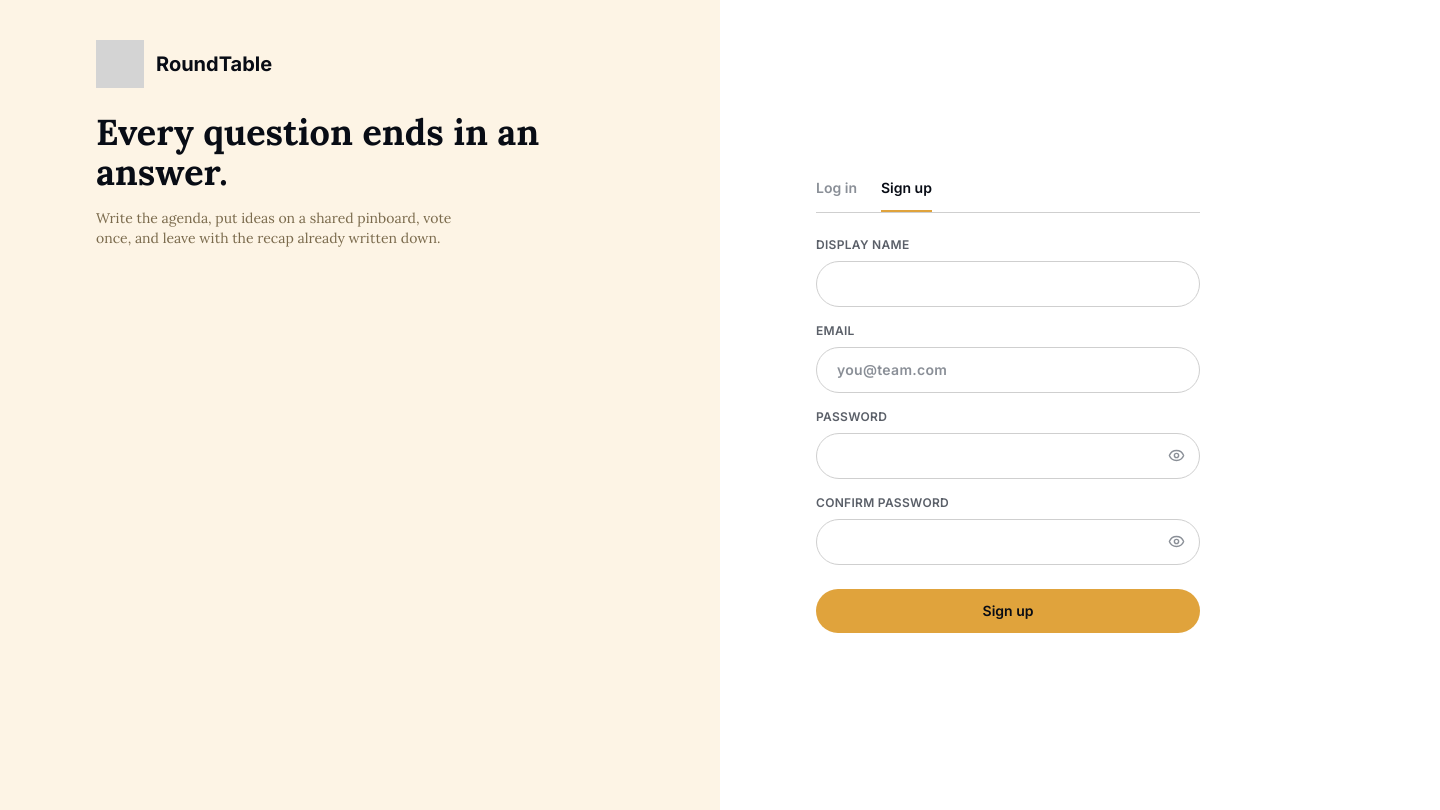
Scenario: SignupPage › shows a validation error without hitting the network for an invalid email
This screenshot has width=1440, height=810.
Type "Alice" into the field labelled "Display name". click: (1008, 284)
box: [816, 260, 1200, 306]
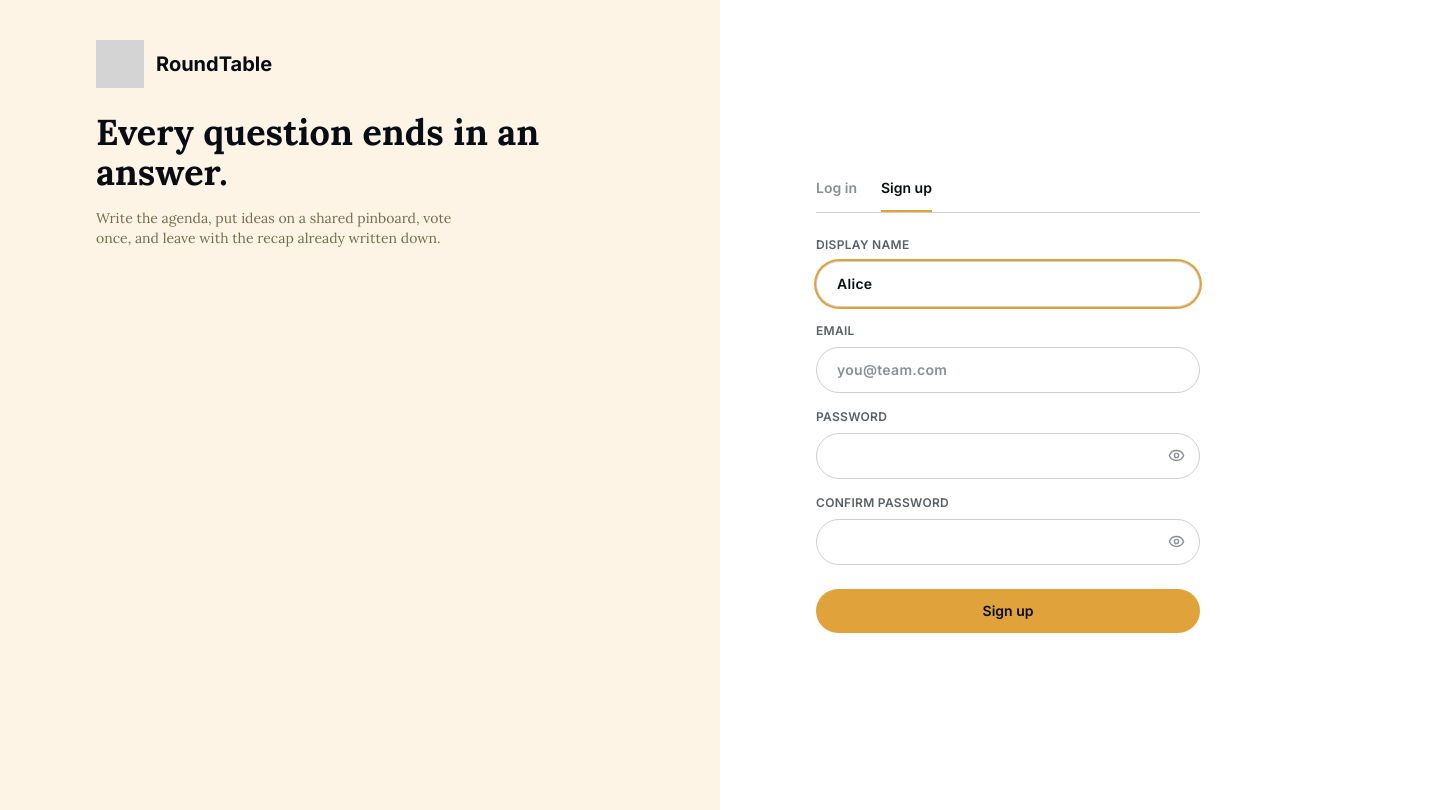
Type "not-an-email" into the field labelled "Email". click: (1008, 370)
box: [816, 346, 1200, 392]
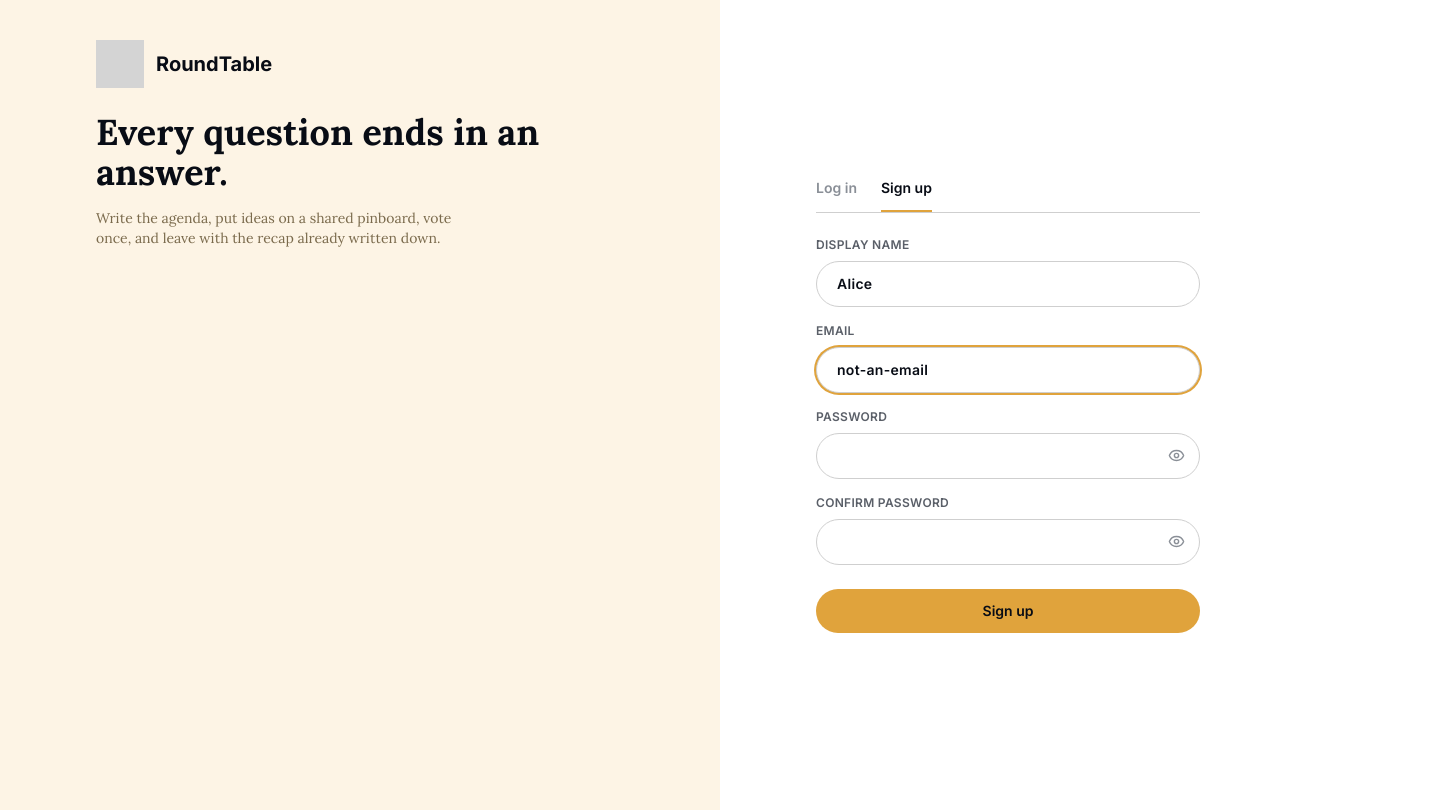
Type "longenough" into the password field labelled "Password". click: (1008, 456)
box: [816, 432, 1200, 478]
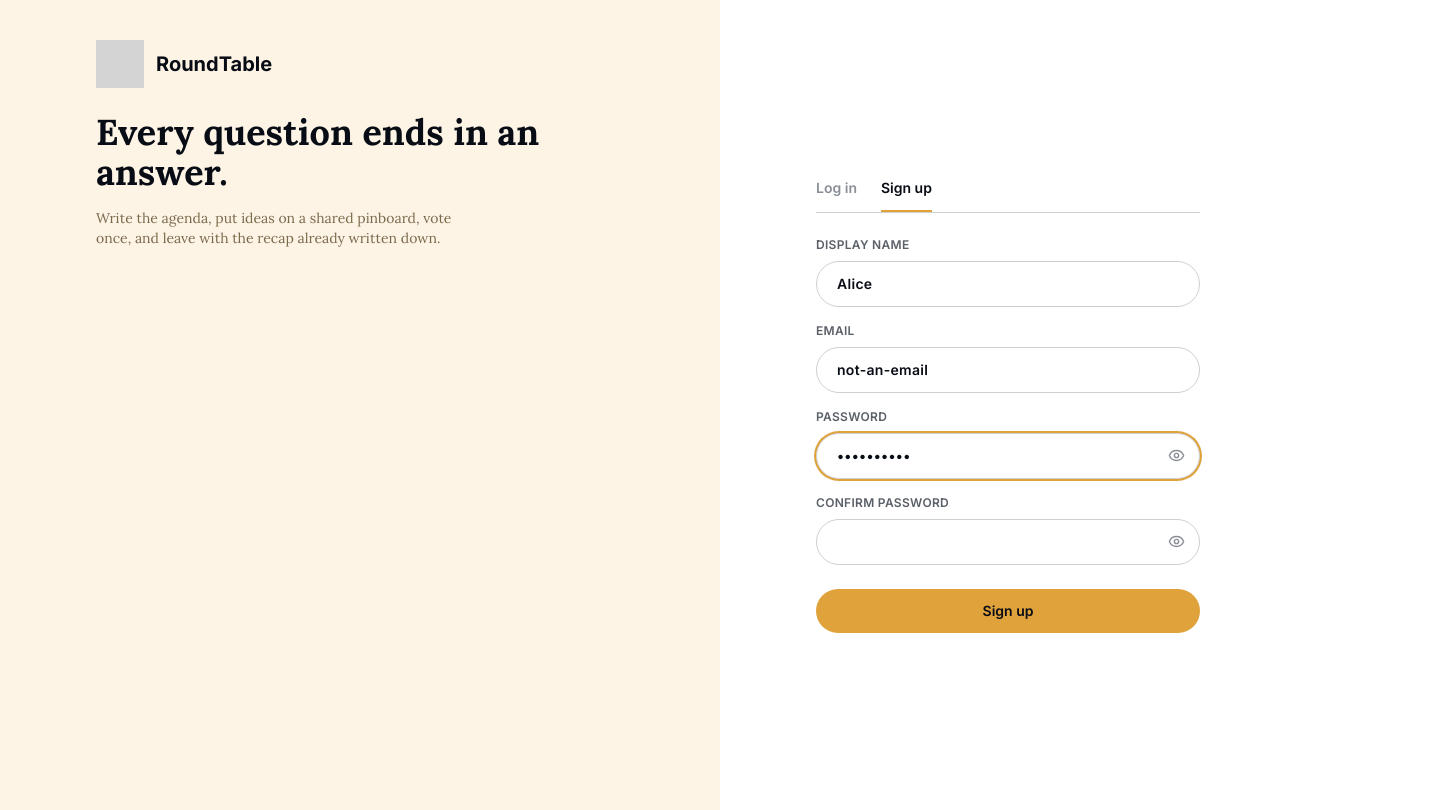
Type "longenough" into the password field labelled "Confirm password". click: (1008, 542)
box: [816, 518, 1200, 564]
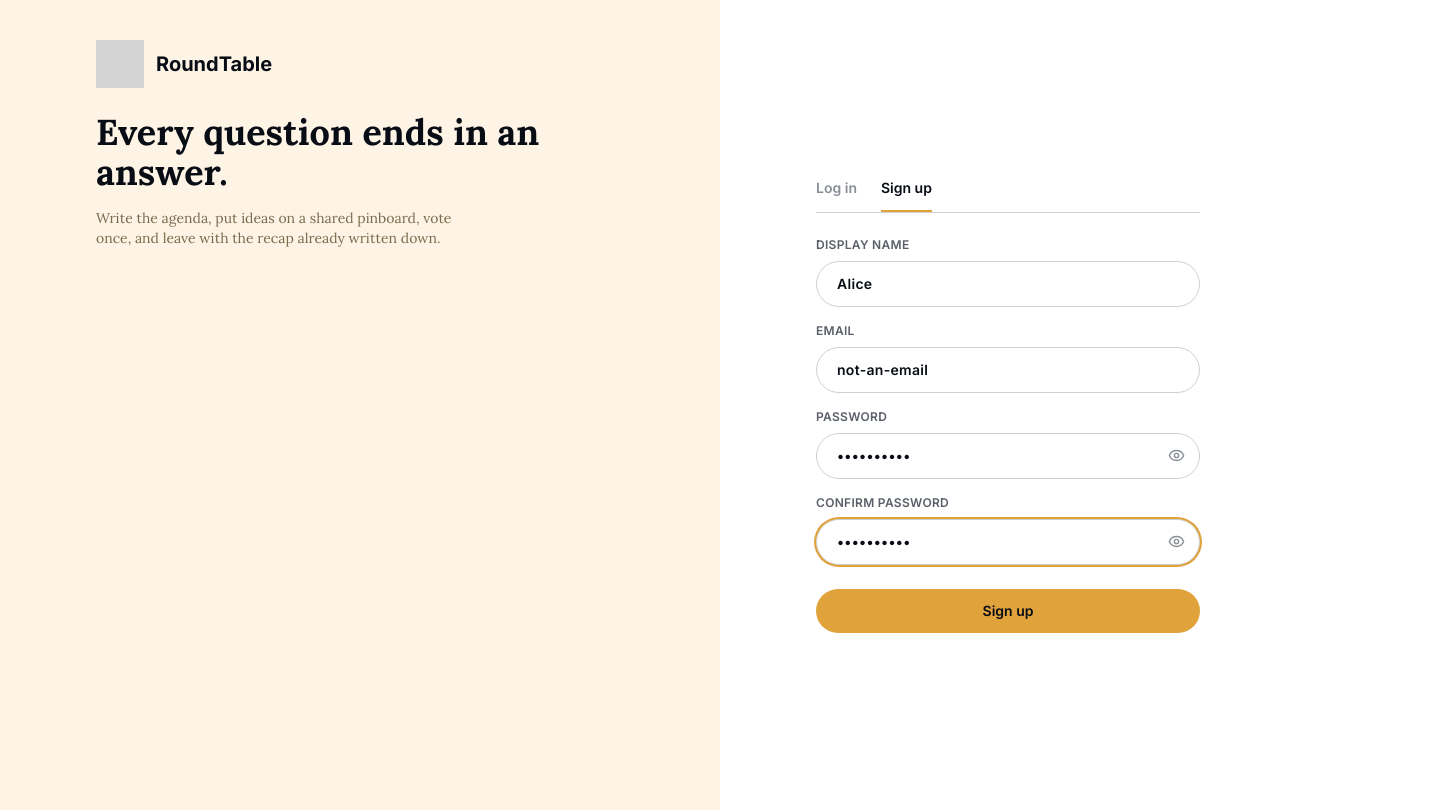
Click the button "Sign up". click: (1008, 610)
box: [816, 588, 1200, 632]
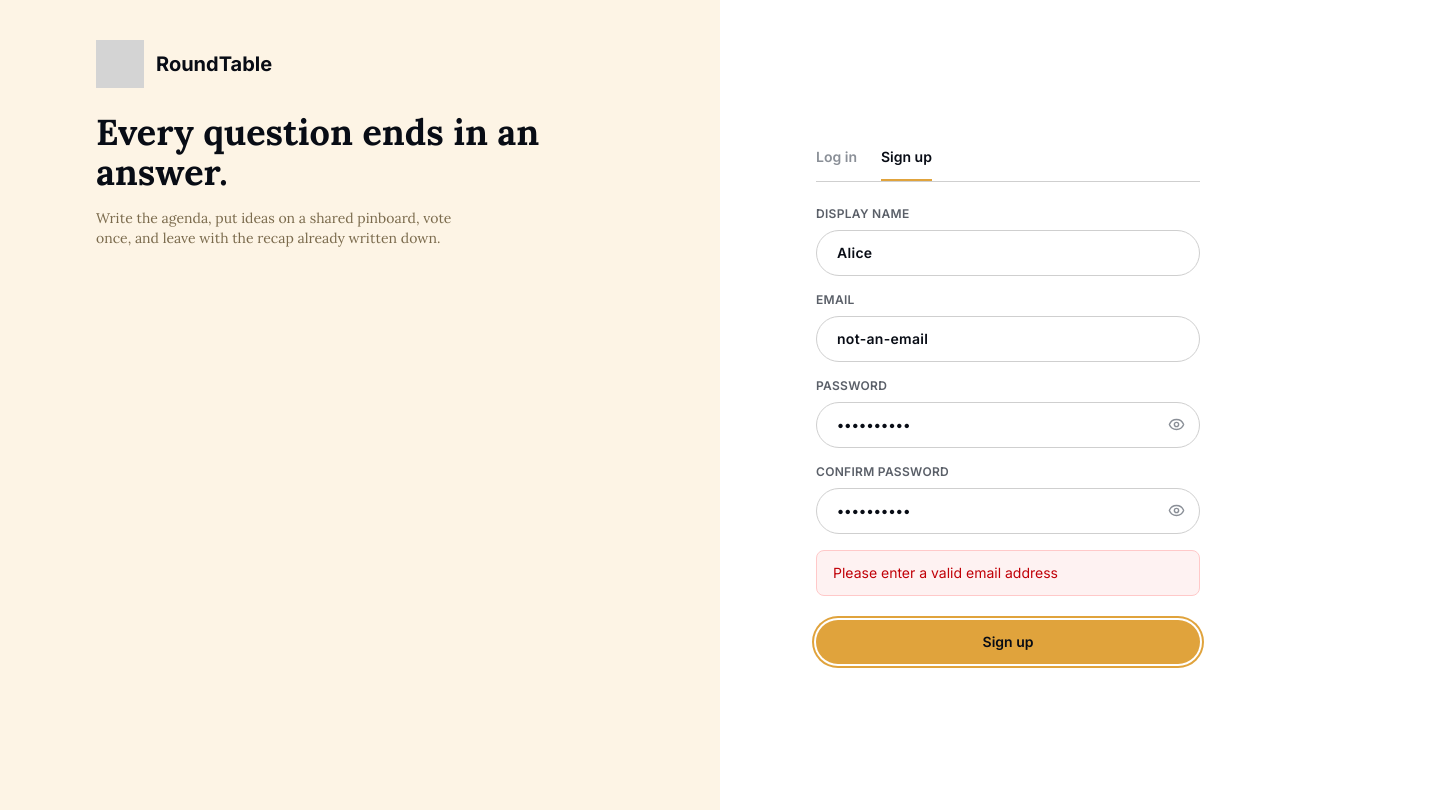
Now the message "Please enter a valid email address" is shown, box [816, 550, 1200, 596]
